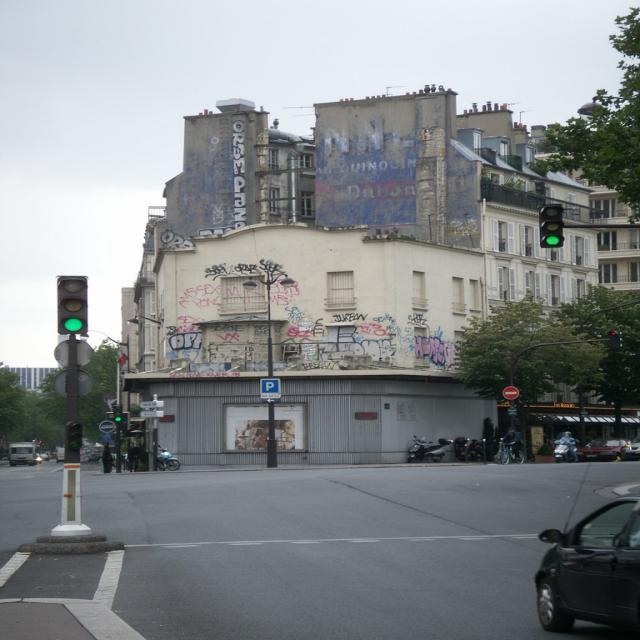car: (569, 433, 630, 460)
